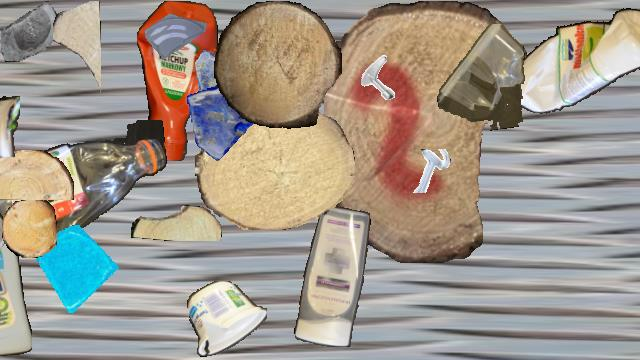glass: (35, 225, 123, 313), (185, 79, 269, 163), (145, 1, 207, 63), (1, 1, 61, 61), (195, 46, 251, 102), (0, 195, 12, 253)
metal: (355, 52, 407, 104), (408, 149, 452, 193)
plastic: (0, 120, 167, 238), (496, 1, 640, 121), (137, 1, 217, 161), (293, 206, 371, 346), (435, 24, 527, 130), (187, 281, 267, 357), (0, 169, 31, 359), (0, 92, 20, 156)
wood: (324, 1, 528, 263), (195, 109, 355, 229), (214, 1, 342, 129), (53, 1, 101, 97), (0, 150, 73, 200), (131, 205, 221, 241), (2, 200, 56, 258), (0, 146, 1, 206)
